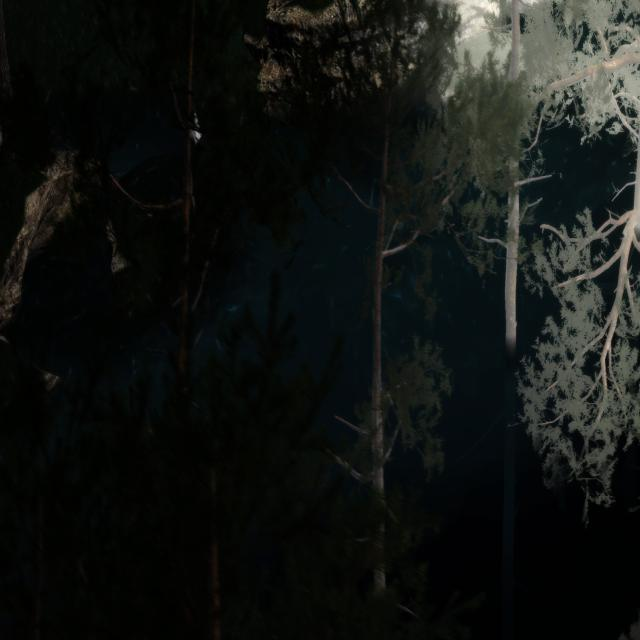Human: (179, 88, 220, 162)
